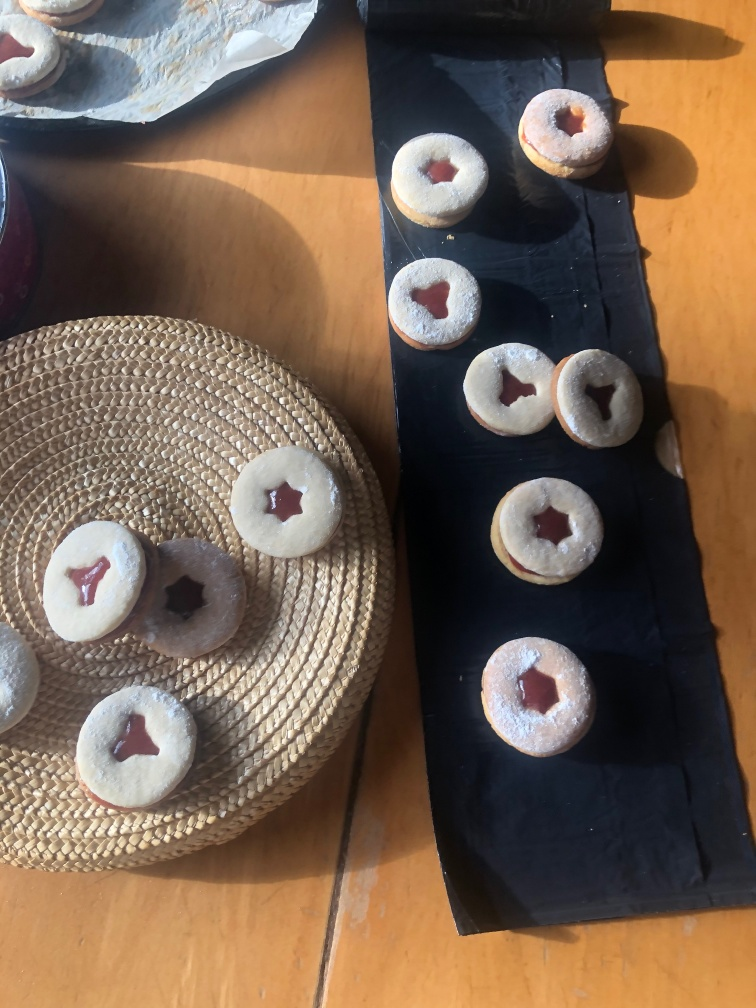christmas shortbread with jam: (76, 679, 197, 809), (226, 440, 345, 560), (478, 633, 591, 757), (45, 517, 151, 646), (487, 475, 601, 585), (146, 539, 244, 665), (463, 339, 561, 441), (390, 127, 487, 229), (516, 84, 614, 181), (557, 345, 643, 450), (389, 256, 483, 351), (1, 13, 71, 104)
